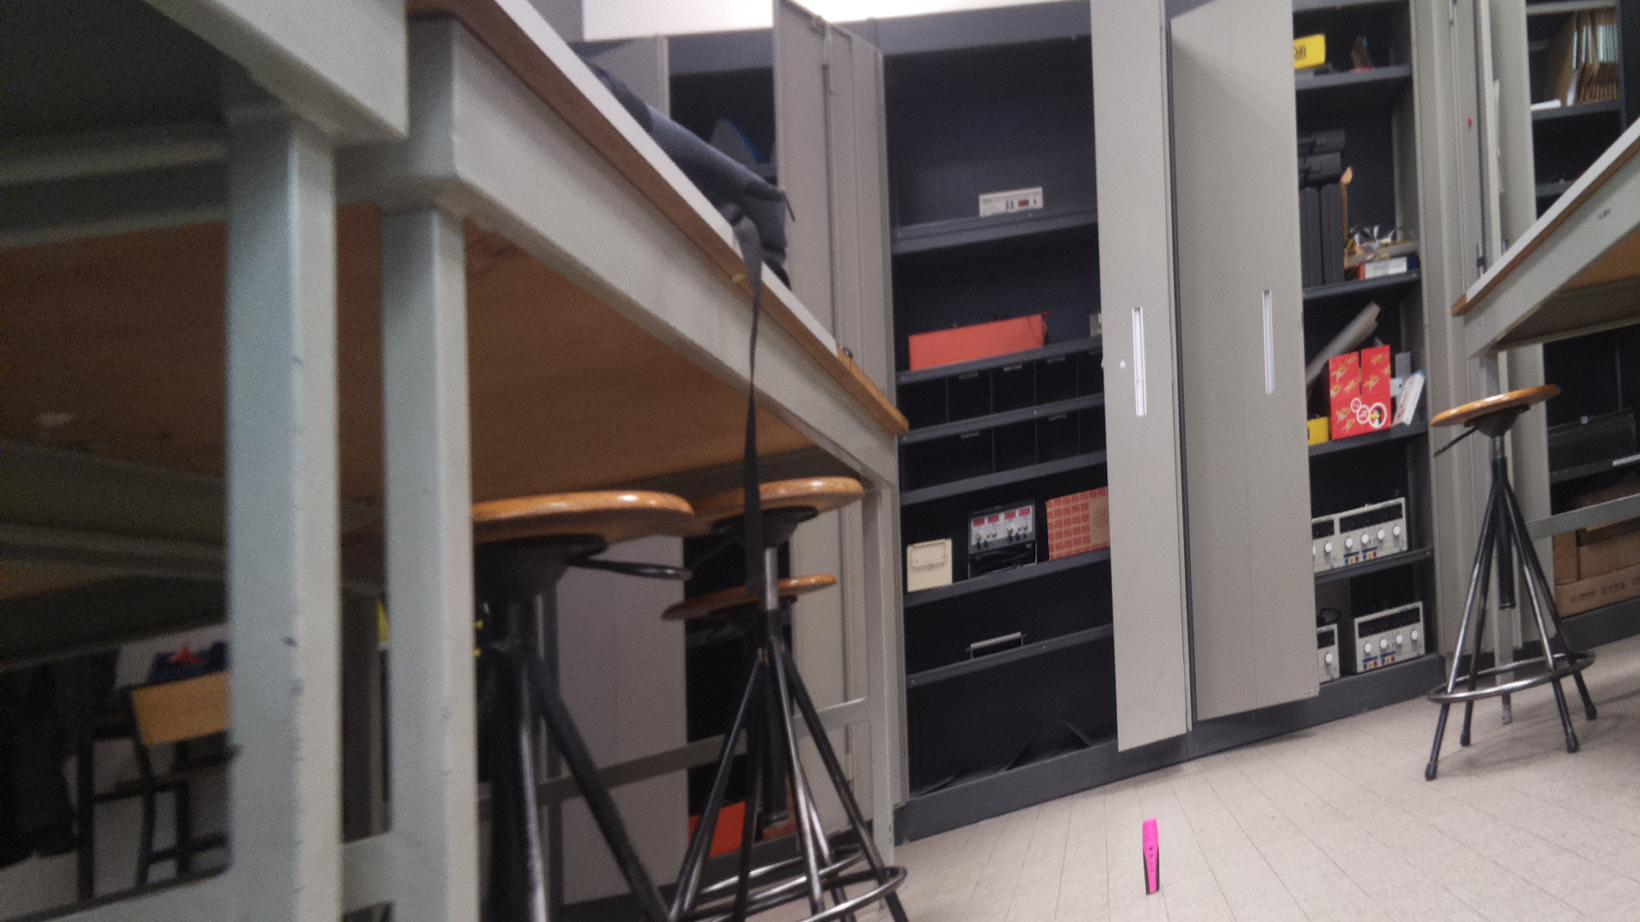small: (1138, 816, 1164, 896)
